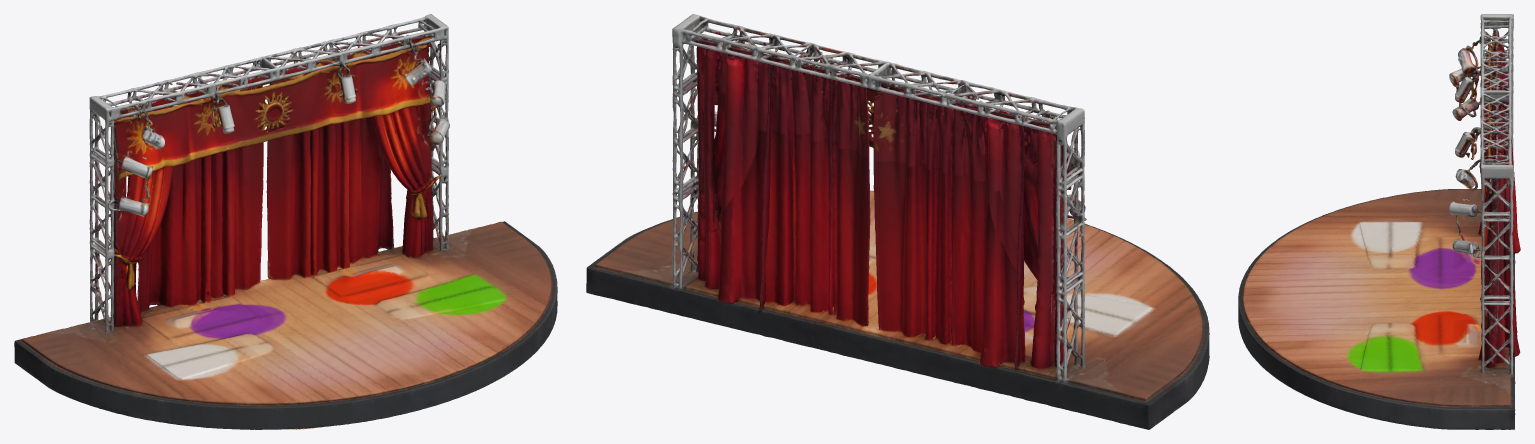
The model's file is Meshy_AI_Stage_0220192412_texture.glb.
The picture shows the model from 3 angles, left to right: view 1: azimuth 30°, elevation 25°; view 2: azimuth 150°, elevation 25°; view 3: azimuth 270°, elevation 25°; orthographic projection. The views are drawn at different scales.
Bounding box in the file's own units: 1.9 × 0.938 × 1.03.
1 material, 1 textured.
